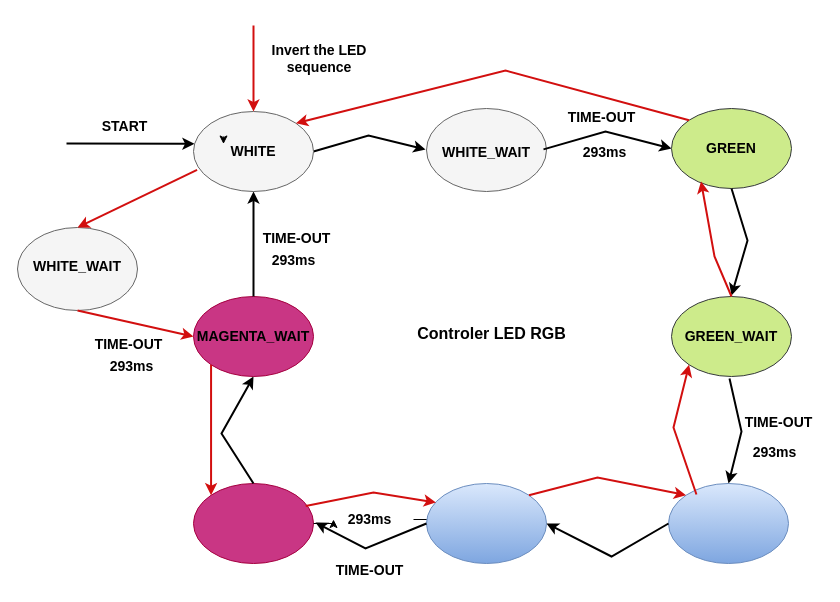
This 840x602 diagram has some shape labels left out. The centre of each missing label's shape, as x and y in pixels:
"BLUE" belongs at pixel 728 523.
"BLUE_WAIT" belongs at pixel 486 523.
"MAGENTA" belongs at pixel 253 523.
